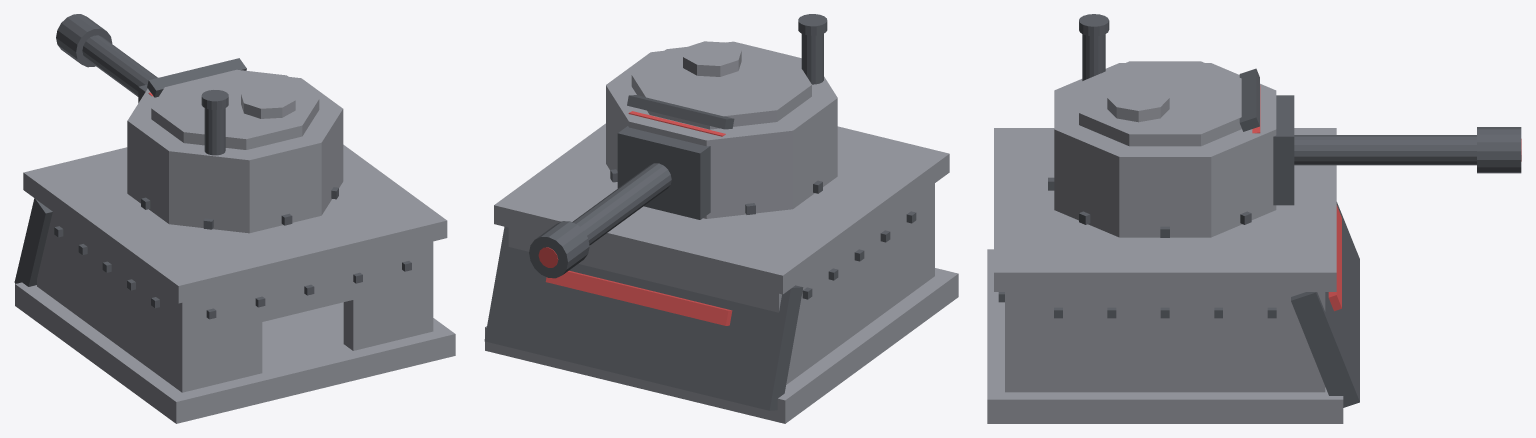
File: turret-bunker.glb
3 renders of one model, left to right at view 1: azimuth 30°, elevation 25°; view 2: azimuth 150°, elevation 25°; view 3: azimuth 270°, elevation 25°, orthographic. The views are drawn at different scales.
Visible parts, largest first — view 1: TurretBunker; view 2: TurretBunker; view 3: TurretBunker.
Boxes of the visible parts, x1,y1,x2,y2 form: TurretBunker: (14, 14, 455, 423); TurretBunker: (484, 14, 958, 423); TurretBunker: (987, 14, 1521, 423).
Size of the model in its own units: 4 by 3.72 by 6.
